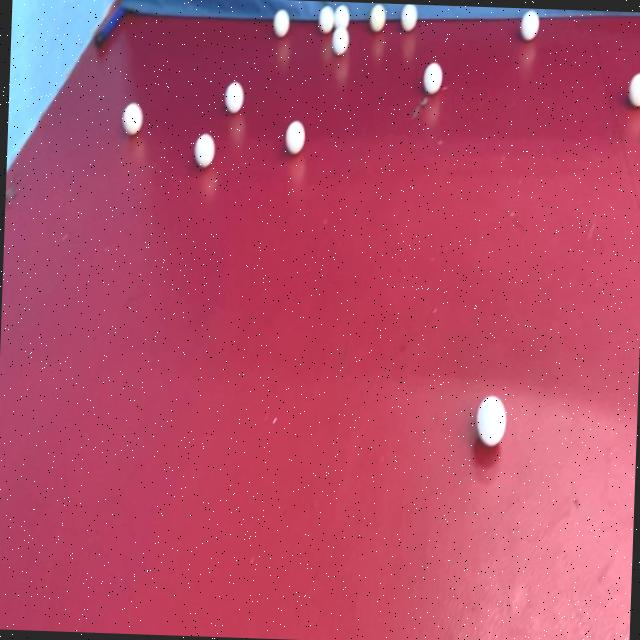ping-pong-ball: (467, 384, 512, 461), (416, 47, 448, 108), (187, 122, 220, 180), (114, 91, 148, 139), (280, 108, 308, 164), (514, 6, 544, 49), (220, 74, 248, 120), (266, 2, 297, 41), (326, 19, 353, 56), (396, 2, 423, 34), (624, 62, 640, 113), (365, 2, 390, 34), (314, 0, 333, 32), (332, 0, 352, 30)
